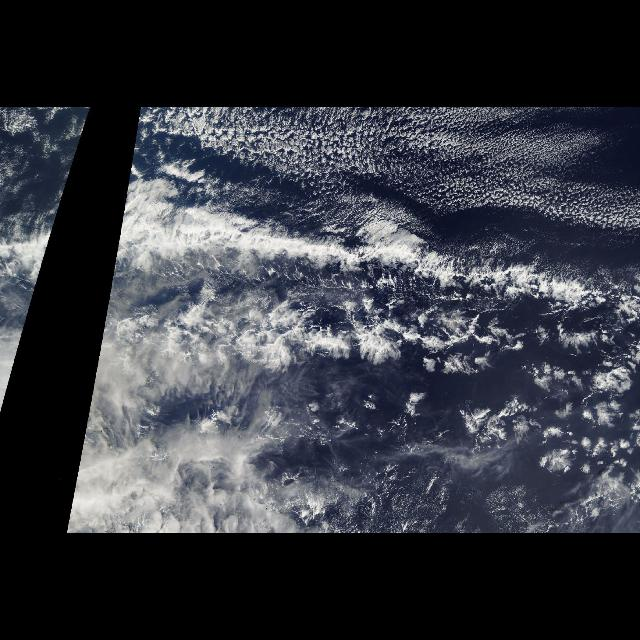Fish: (96, 182, 616, 376), (2, 182, 68, 318)
Gravel: (232, 109, 640, 244), (208, 298, 492, 362)
Sugar: (142, 107, 638, 240)
